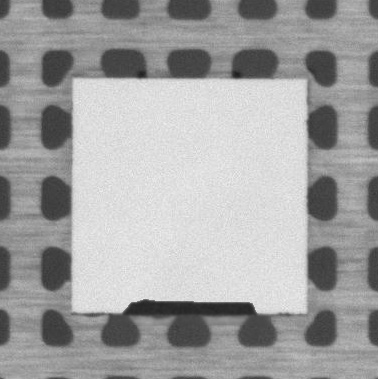DIE_BROKEN: (120, 296, 258, 316)
